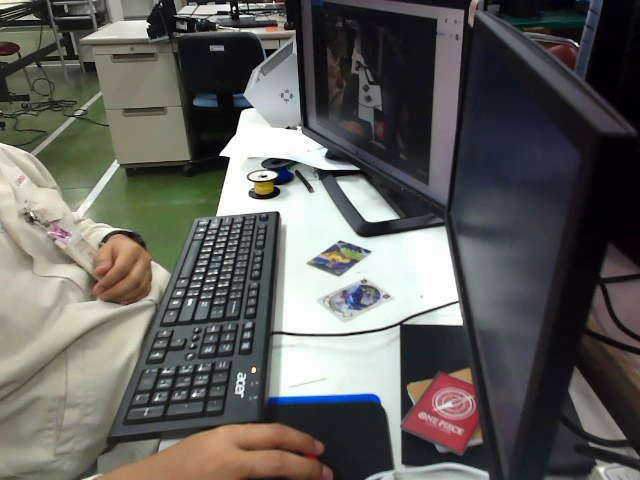can: (303, 240, 375, 277)
